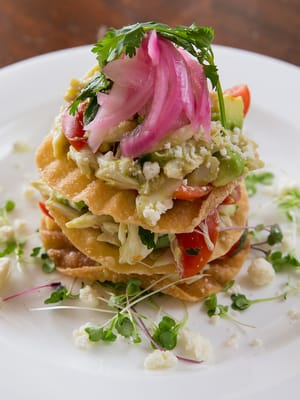soup: (34, 18, 264, 282)
